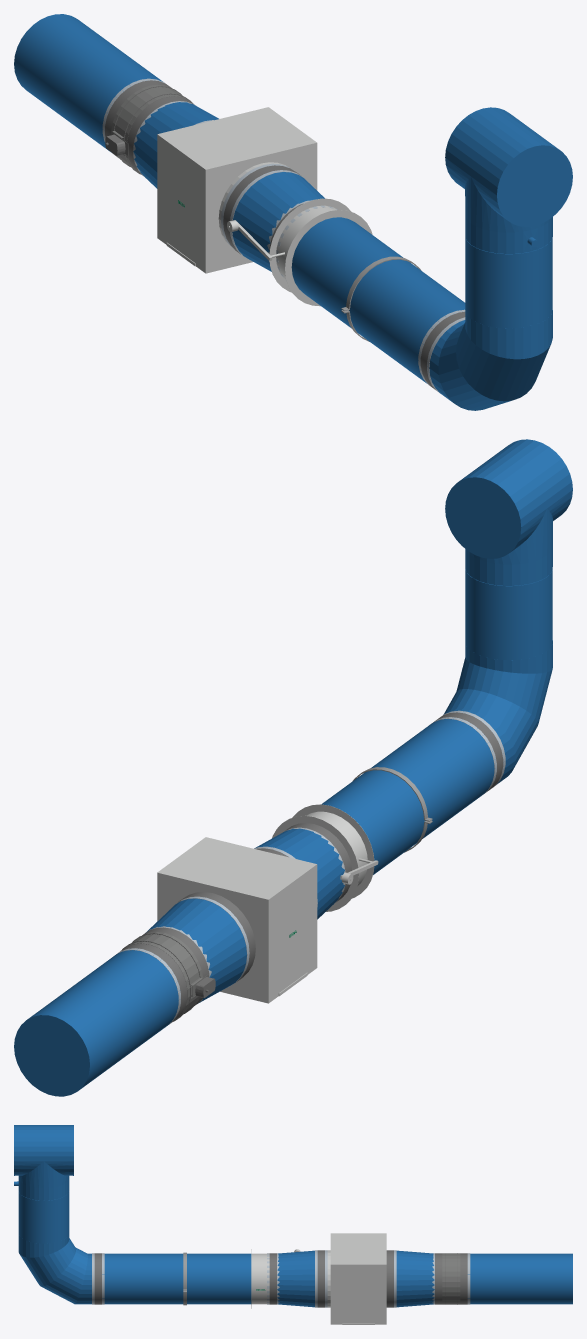
Rendered from Phase21 (2).fbx.
3 views of the same model, one above another, from view 1: azimuth 30°, elevation 25°; view 2: azimuth 150°, elevation 25°; view 3: azimuth 270°, elevation 25° (orthographic). The views are drawn at different scales.
Visible parts, largest first — view 1: Воздуховод круглого сечения:CPS_Оцинковка_Врезки_ГОСТ 14918- (×3), CPS_Корпус оборудование (×2), CPS_Тройник_Круглый1:Стандарт:666702, CPS_Отвод_Круглый3:Стандарт 2:661416, CPS_Переходник_Круглый_1:Стандарт:664683, VEZA_Гибкий рукав (×4), CPS_Переходник_Круглый_1:Стандарт:664681, CPS_Тройник_Круглый:Стандарт:612663, RAL 0000 Серый металл, VEZA_Металл_Сталь_Оцинкованная (×2); view 2: Воздуховод круглого сечения:CPS_Оцинковка_Врезки_ГОСТ 14918- (×3), CPS_Корпус оборудование (×2), CPS_Тройник_Круглый1:Стандарт:666702, CPS_Отвод_Круглый3:Стандарт 2:661416, CPS_Переходник_Круглый_1:Стандарт:664681, CPS_Переходник_Круглый_1:Стандарт:664683, CPS_Тройник_Круглый:Стандарт:612663, RAL 0000 Серый металл, VEZA_Гибкий рукав; view 3: Воздуховод круглого сечения:CPS_Оцинковка_Врезки_ГОСТ 14918- (×3), CPS_Корпус оборудование (×2), CPS_Тройник_Круглый1:Стандарт:666702, CPS_Отвод_Круглый3:Стандарт 2:661416, VEZA_Гибкий рукав (×6), CPS_Переходник_Круглый_1:Стандарт:664681, CPS_Переходник_Круглый_1:Стандарт:664683, RAL 0000 Серый металл, CPS_Тройник_Круглый:Стандарт:612663, VEZA_Металл_Сталь_Оцинкованная (×2).
Part boxes in pixels (x1=…): Воздуховод круглого сечения:CPS_Оцинковка_Врезки_ГОСТ 14918- (×3): x1=14, y1=14, x2=552, y2=383; CPS_Корпус оборудование (×2): x1=157, y1=107, x2=372, y2=306; CPS_Тройник_Круглый1:Стандарт:666702: x1=445, y1=107, x2=572, y2=232; CPS_Отвод_Круглый3:Стандарт 2:661416: x1=427, y1=310, x2=552, y2=410; CPS_Переходник_Круглый_1:Стандарт:664683: x1=232, y1=172, x2=324, y2=271; VEZA_Гибкий рукав (×4): x1=105, y1=80, x2=465, y2=389; CPS_Переходник_Круглый_1:Стандарт:664681: x1=133, y1=102, x2=218, y2=188; CPS_Тройник_Круглый:Стандарт:612663: x1=465, y1=217, x2=552, y2=253; RAL 0000 Серый металл: x1=105, y1=84, x2=193, y2=171; VEZA_Металл_Сталь_Оцинкованная (×2): x1=221, y1=163, x2=465, y2=392; Воздуховод круглого сечения:CPS_Оцинковка_Врезки_ГОСТ 14918- (×3): x1=14, y1=569, x2=552, y2=1096; CPS_Корпус оборудование (×2): x1=157, y1=804, x2=378, y2=1003; CPS_Тройник_Круглый1:Стандарт:666702: x1=445, y1=439, x2=572, y2=564; CPS_Отвод_Круглый3:Стандарт 2:661416: x1=443, y1=640, x2=552, y2=784; CPS_Переходник_Круглый_1:Стандарт:664681: x1=146, y1=898, x2=246, y2=1003; CPS_Переходник_Круглый_1:Стандарт:664683: x1=254, y1=828, x2=344, y2=919; CPS_Тройник_Круглый:Стандарт:612663: x1=465, y1=546, x2=552, y2=585; RAL 0000 Серый металл: x1=121, y1=932, x2=208, y2=1018; VEZA_Гибкий рукав: x1=178, y1=892, x2=255, y2=981; Воздуховод круглого сечения:CPS_Оцинковка_Врезки_ГОСТ 14918- (×3): x1=18, y1=1191, x2=572, y2=1304; CPS_Корпус оборудование (×2): x1=251, y1=1233, x2=386, y2=1324; CPS_Тройник_Круглый1:Стандарт:666702: x1=14, y1=1125, x2=73, y2=1188; CPS_Отвод_Круглый3:Стандарт 2:661416: x1=18, y1=1234, x2=91, y2=1304; VEZA_Гибкий рукав (×6): x1=94, y1=1250, x2=467, y2=1307; CPS_Переходник_Круглый_1:Стандарт:664681: x1=396, y1=1250, x2=434, y2=1307; CPS_Переходник_Круглый_1:Стандарт:664683: x1=277, y1=1250, x2=314, y2=1307; RAL 0000 Серый металл: x1=442, y1=1253, x2=460, y2=1304; CPS_Тройник_Круглый:Стандарт:612663: x1=14, y1=1179, x2=69, y2=1200; VEZA_Металл_Сталь_Оцинкованная (×2): x1=92, y1=1250, x2=327, y2=1307.
Size of the model in its own units: 865 by 6155 by 2207.
